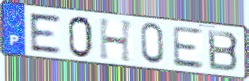0: (67, 15, 95, 59), (139, 22, 166, 67)
B: (206, 28, 240, 73)
E: (171, 24, 205, 70), (27, 12, 63, 55)
H: (98, 17, 136, 64)
